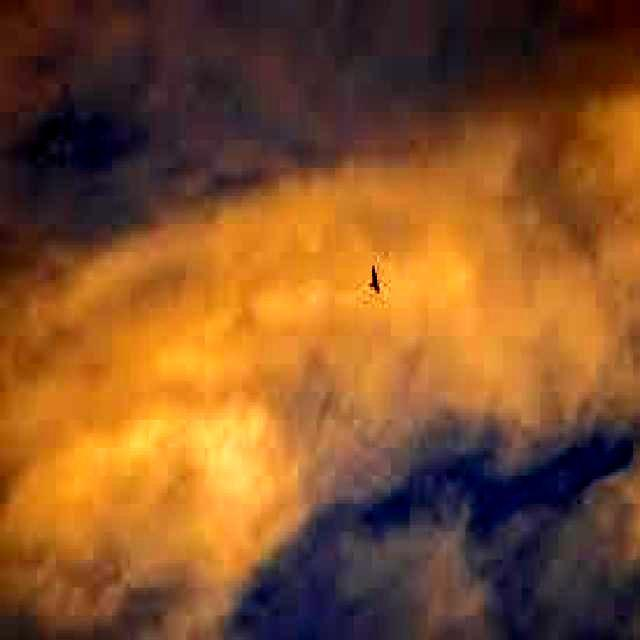bird: (368, 260, 387, 294)
